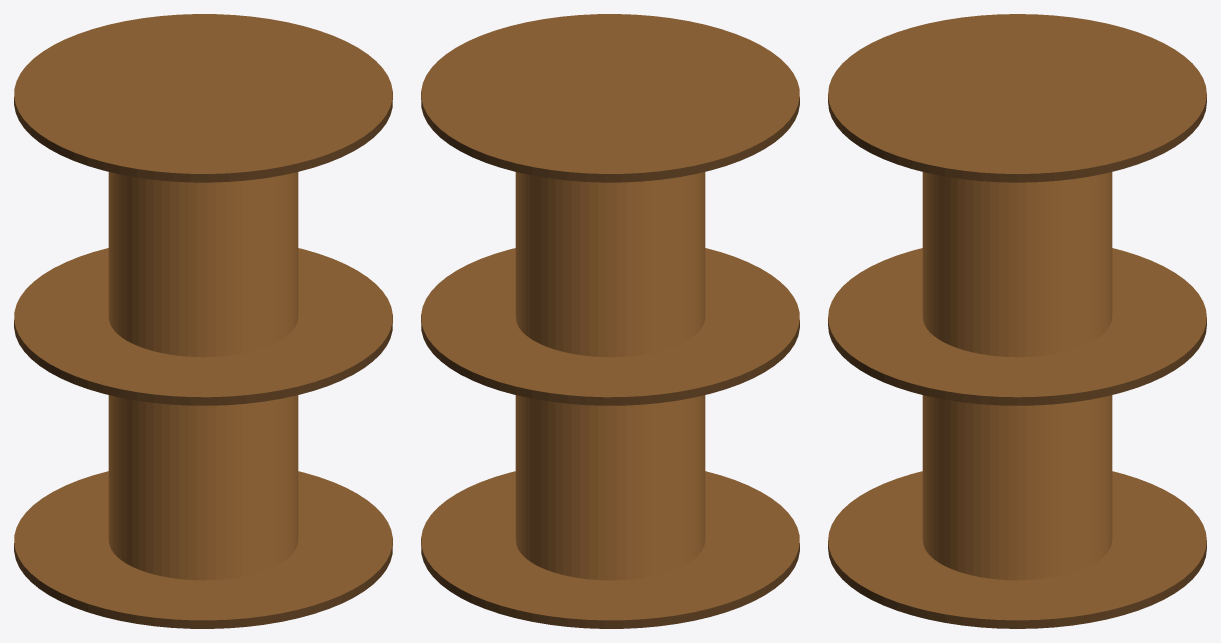
The model's file is RoundWoodShelf.fbx.
3 renders of one model, left to right at view 1: azimuth 30°, elevation 25°; view 2: azimuth 150°, elevation 25°; view 3: azimuth 270°, elevation 25°, orthographic.
Visible parts, largest first — view 1: RoundWoodShelf; view 2: RoundWoodShelf; view 3: RoundWoodShelf.
Part boxes in pixels (<box>): RoundWoodShelf: <box>14,14,392,628</box>; RoundWoodShelf: <box>421,14,799,628</box>; RoundWoodShelf: <box>828,14,1206,628</box>.
Bounding box in the file's own units: 80 × 106 × 80.
